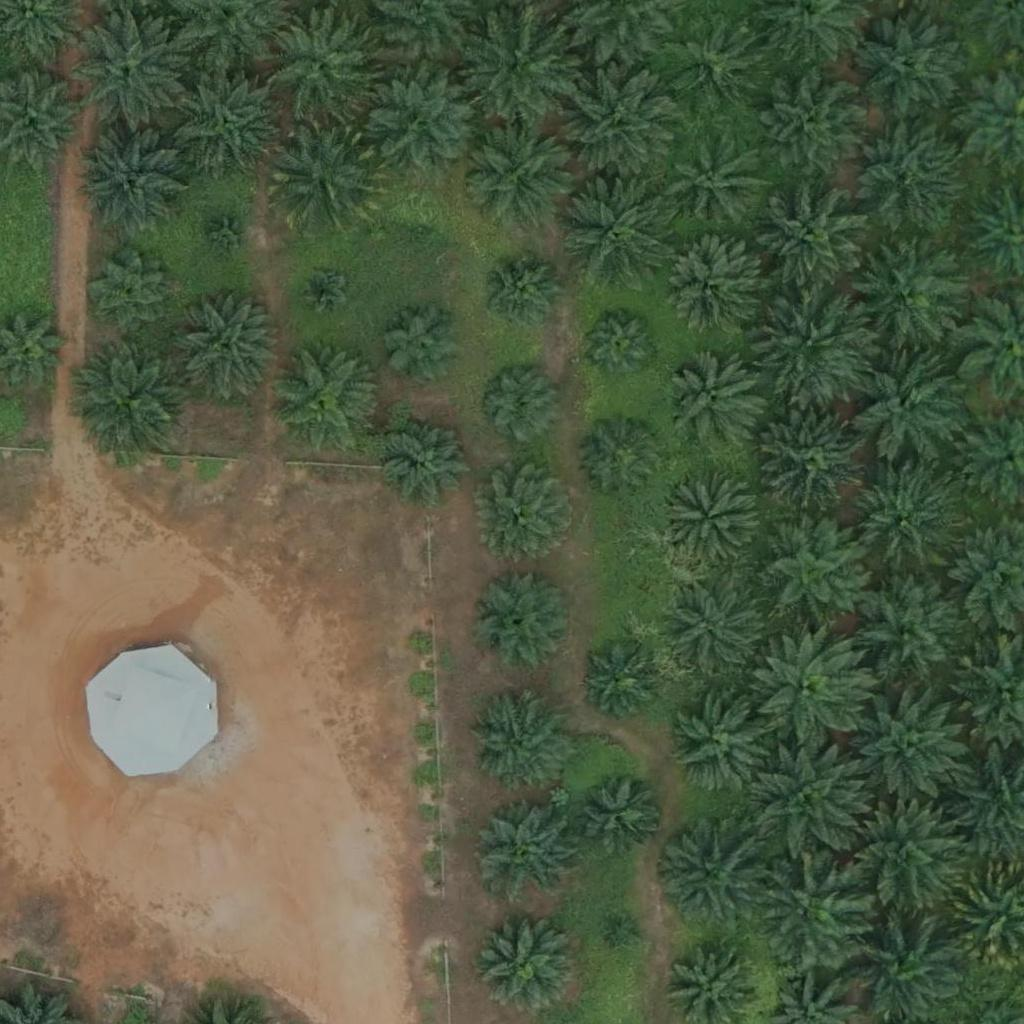Kelapa_Sawit: (559, 167, 672, 281), (459, 8, 572, 122), (654, 818, 767, 932), (854, 7, 967, 120), (850, 117, 963, 230), (756, 71, 869, 184), (464, 118, 577, 231), (74, 15, 187, 128), (77, 130, 190, 243), (77, 343, 190, 456), (758, 289, 871, 402), (759, 406, 872, 519), (855, 237, 968, 350), (852, 351, 965, 464), (846, 462, 959, 575), (854, 577, 967, 690), (756, 182, 868, 296), (565, 65, 677, 179), (269, 343, 381, 457), (754, 746, 866, 860), (757, 852, 869, 966), (268, 119, 380, 232), (371, 65, 483, 178), (266, 9, 378, 122), (170, 62, 282, 175), (170, 293, 282, 406), (754, 515, 866, 628), (753, 636, 865, 749), (856, 688, 968, 801), (845, 803, 957, 916), (467, 690, 567, 791), (659, 239, 759, 340), (665, 351, 765, 452), (660, 469, 760, 570), (475, 801, 575, 902), (473, 909, 573, 1010), (663, 15, 763, 115), (667, 134, 767, 234), (477, 464, 577, 564), (472, 571, 572, 671), (670, 583, 770, 683), (672, 696, 772, 796), (386, 416, 474, 504), (89, 251, 176, 339), (380, 301, 467, 389), (479, 251, 566, 339), (476, 360, 563, 448), (578, 415, 665, 503), (576, 771, 663, 859), (583, 643, 658, 719), (581, 307, 656, 382), (204, 209, 254, 260), (298, 265, 348, 316), (395, 202, 445, 252), (614, 919, 639, 944)
